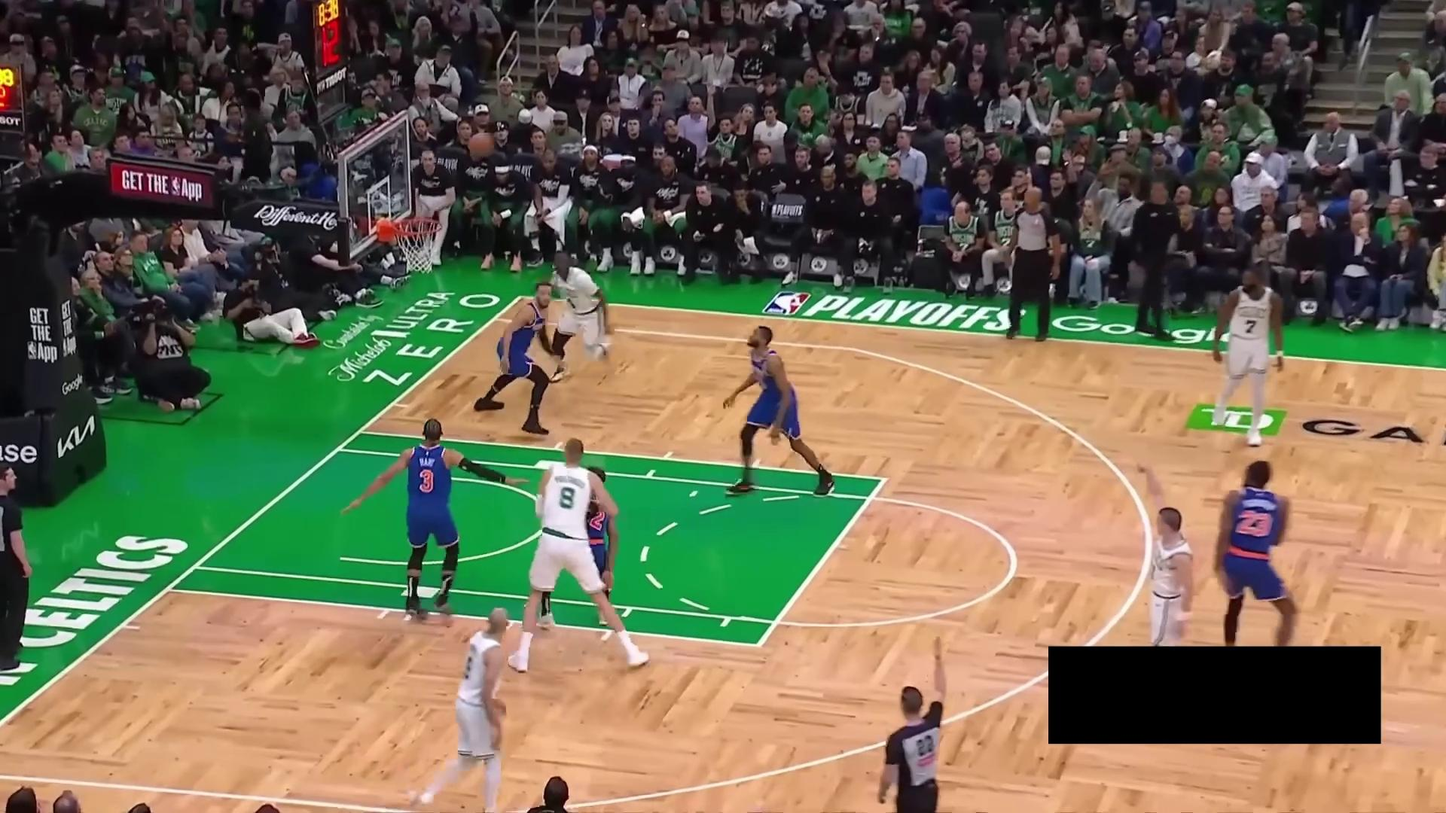ball: (469, 132, 495, 158)
number: (1237, 510, 1272, 541), (415, 468, 440, 496), (589, 507, 606, 531), (558, 485, 574, 510), (1244, 318, 1257, 334)
player: (344, 417, 528, 627), (499, 435, 651, 674), (722, 322, 838, 499), (411, 608, 510, 813), (1213, 459, 1299, 646), (473, 280, 565, 436), (537, 464, 620, 631), (1211, 265, 1285, 447), (1135, 460, 1196, 646), (549, 244, 619, 383)
referee: (875, 630, 951, 813), (1003, 186, 1062, 343), (0, 458, 35, 669)
rim: (397, 215, 444, 237)
